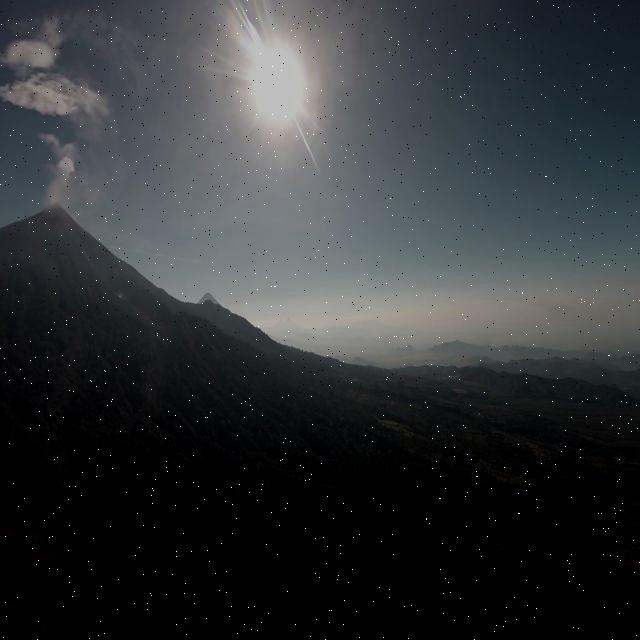Plume: (0, 75, 106, 121), (38, 127, 86, 210), (2, 19, 68, 74)
Summit: (36, 198, 76, 226)
